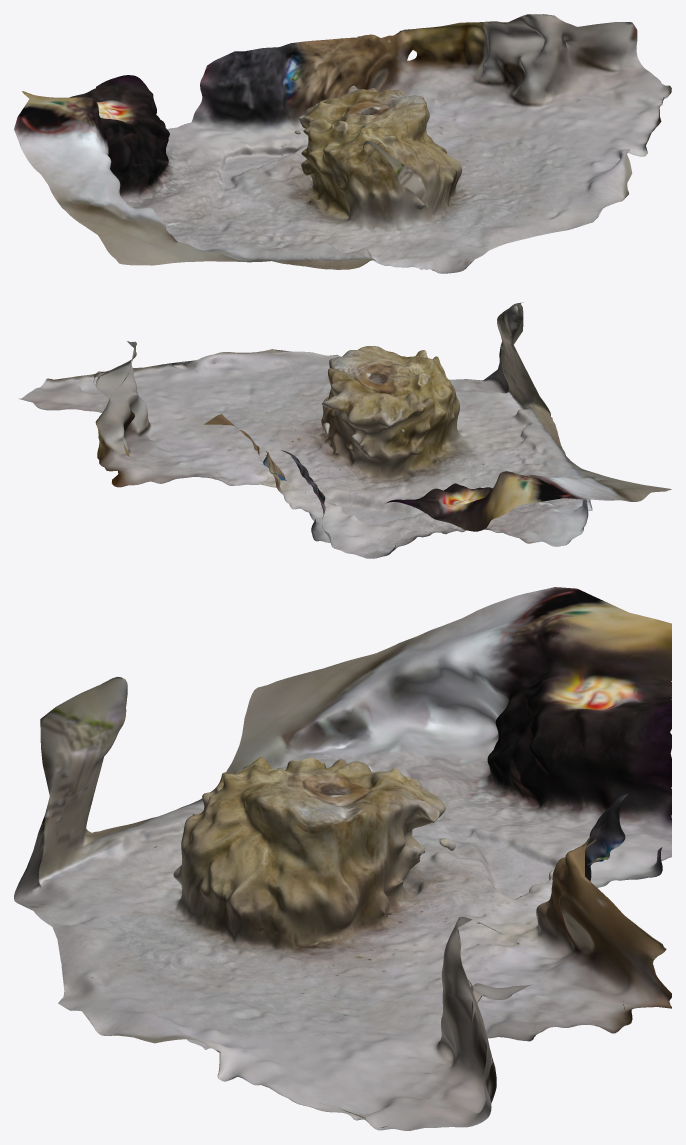
3 renders of one model, top to bottom at view 1: azimuth 30°, elevation 25°; view 2: azimuth 150°, elevation 25°; view 3: azimuth 270°, elevation 25°, orthographic. The views are drawn at different scales.
Bounding box in the file's own units: 3.39 × 0.669 × 2.1.
Materials: 1 (1 with a texture image).
